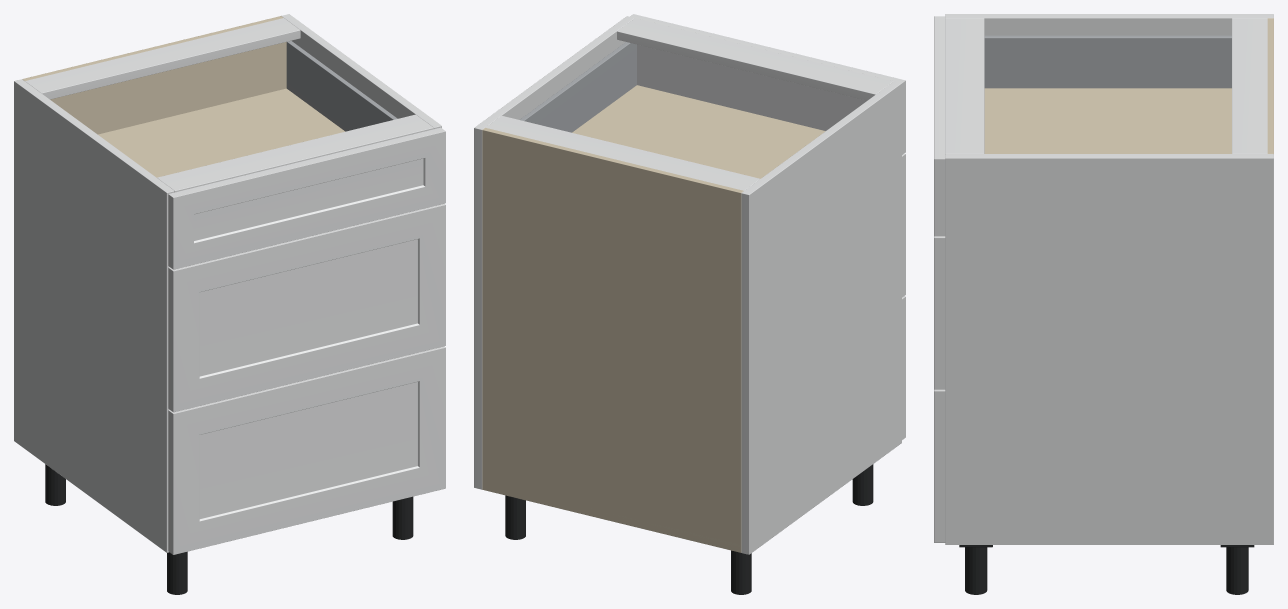
Rendered from PLY-WSS-3DB24.glb.
3 views of the same model, side by side, from view 1: azimuth 30°, elevation 25°; view 2: azimuth 150°, elevation 25°; view 3: azimuth 270°, elevation 25° (orthographic). The views are drawn at different scales.
Parts seen in each view (by area): view 1: Carcass left, Drawer front.001, Drawer front, Drawer front.002, Drawer bottom.002, Drawer back.002, Top support rail, Top support rail.001, Metal drawer side.005, Carcass right, Adjustable foot.003, Carcass back (+2 smaller); view 2: Carcass back, Carcass left, Drawer bottom.002, Drawer front.002, Top support rail.001, Carcass right, Metal drawer side.005, Top support rail, Adjustable foot, Adjustable foot.002, Adjustable foot.001, Drawer front.001 (+1 smaller); view 3: Carcass right, Drawer bottom.002, Metal drawer side.004, Carcass left, Top support rail.001, Top support rail, Drawer front.002, Drawer front.001, Drawer front, Adjustable foot.002, Adjustable foot.003, Carcass back.
Part boxes in pixels (x1=…): Carcass left: x1=14, y1=79, x2=174, y2=552; Drawer front.001: x1=168, y1=203, x2=445, y2=412; Drawer front: x1=168, y1=346, x2=445, y2=554; Drawer front.002: x1=168, y1=127, x2=445, y2=269; Drawer bottom.002: x1=98, y1=88, x2=344, y2=177; Drawer back.002: x1=50, y1=42, x2=286, y2=134; Top support rail: x1=25, y1=18, x2=300, y2=99; Top support rail.001: x1=157, y1=114, x2=433, y2=192; Metal drawer side.005: x1=286, y1=41, x2=397, y2=131; Carcass right: x1=281, y1=14, x2=441, y2=128; Adjustable foot.003: x1=392, y1=496, x2=413, y2=539; Carcass back: x1=22, y1=16, x2=283, y2=80; Carcass back: x1=482, y1=127, x2=743, y2=552; Carcass left: x1=741, y1=81, x2=901, y2=554; Drawer bottom.002: x1=572, y1=85, x2=825, y2=178; Drawer front.002: x1=630, y1=14, x2=905, y2=154; Top support rail.001: x1=617, y1=18, x2=893, y2=100; Carcass right: x1=474, y1=16, x2=634, y2=489; Metal drawer side.005: x1=520, y1=42, x2=636, y2=132; Top support rail: x1=485, y1=115, x2=759, y2=190; Adjustable foot: x1=731, y1=550, x2=751, y2=594; Adjustable foot.002: x1=505, y1=495, x2=525, y2=539; Adjustable foot.001: x1=852, y1=464, x2=873, y2=505; Drawer front.001: x1=902, y1=153, x2=905, y2=297; Carcass right: x1=945, y1=154, x2=1273, y2=544; Drawer bottom.002: x1=984, y1=88, x2=1231, y2=153; Metal drawer side.004: x1=984, y1=35, x2=1231, y2=88; Carcass left: x1=945, y1=14, x2=1273, y2=35; Top support rail.001: x1=945, y1=18, x2=984, y2=153; Top support rail: x1=1232, y1=18, x2=1267, y2=153; Drawer front.002: x1=934, y1=16, x2=945, y2=236; Drawer front.001: x1=934, y1=236, x2=945, y2=389; Drawer front: x1=934, y1=389, x2=945, y2=542; Adjustable foot.002: x1=1226, y1=547, x2=1248, y2=594; Adjustable foot.003: x1=965, y1=547, x2=987, y2=594; Carcass back: x1=1267, y1=18, x2=1273, y2=153.
Bounding box in the file's own units: 0.6096 × 0.8763 × 0.6064.
